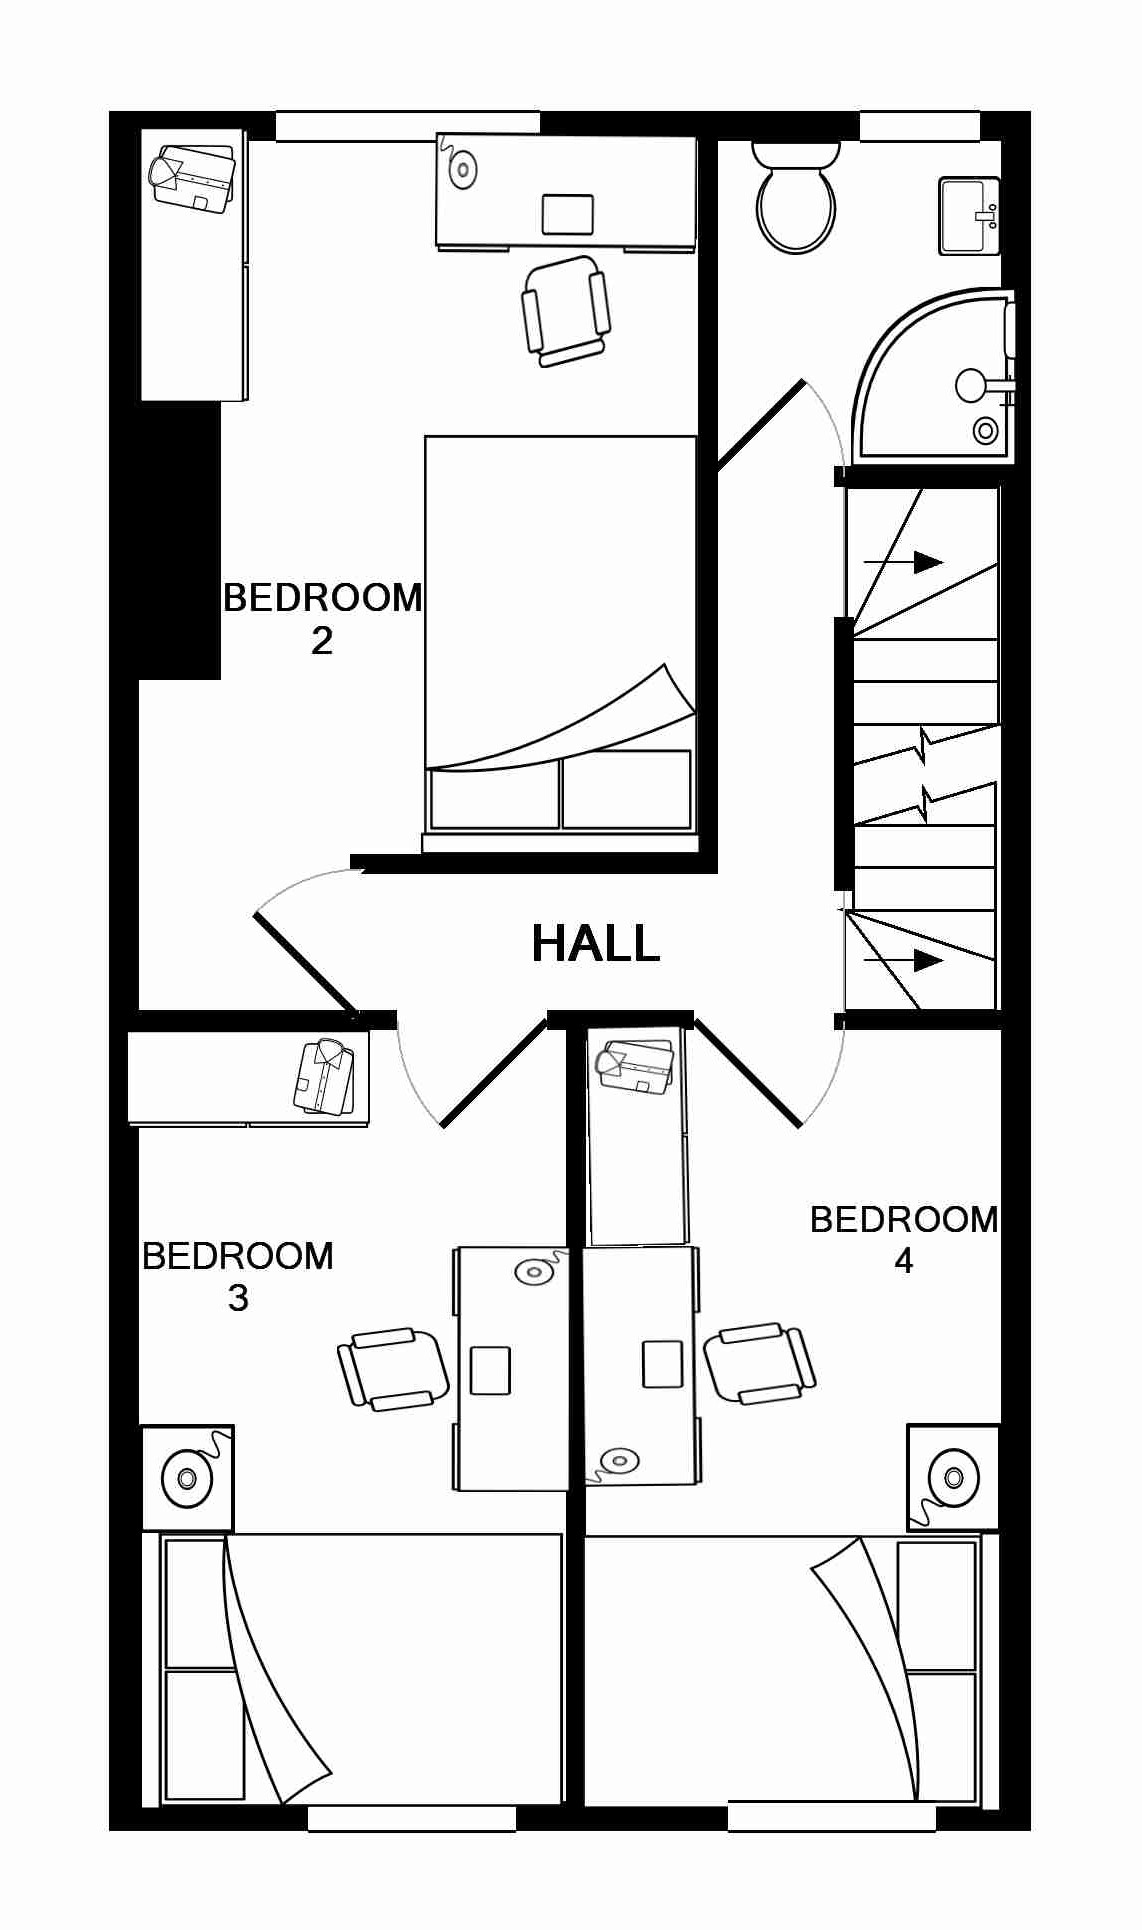room: (107, 111, 722, 879), (570, 1008, 1035, 1835), (122, 1000, 574, 1842), (696, 105, 1031, 493)
